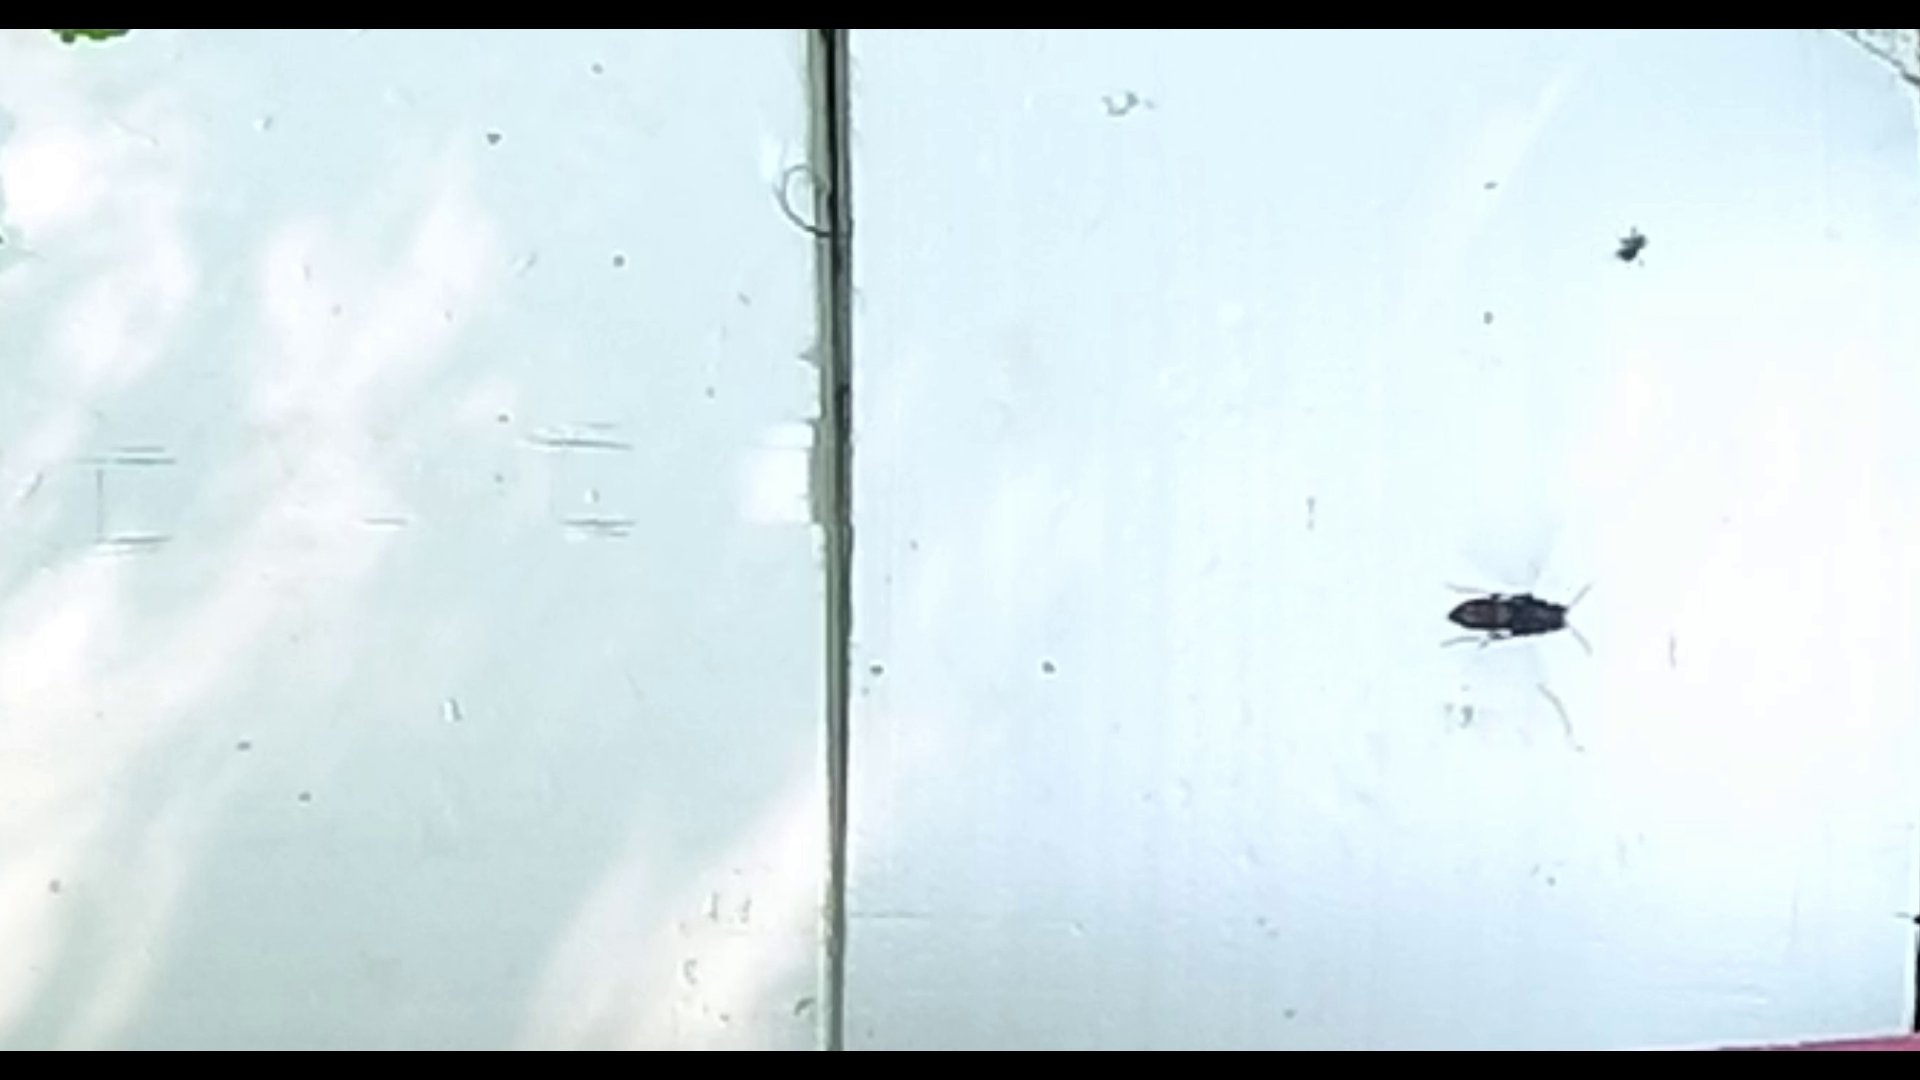Asian_hornets: (1404, 539, 1605, 680)
